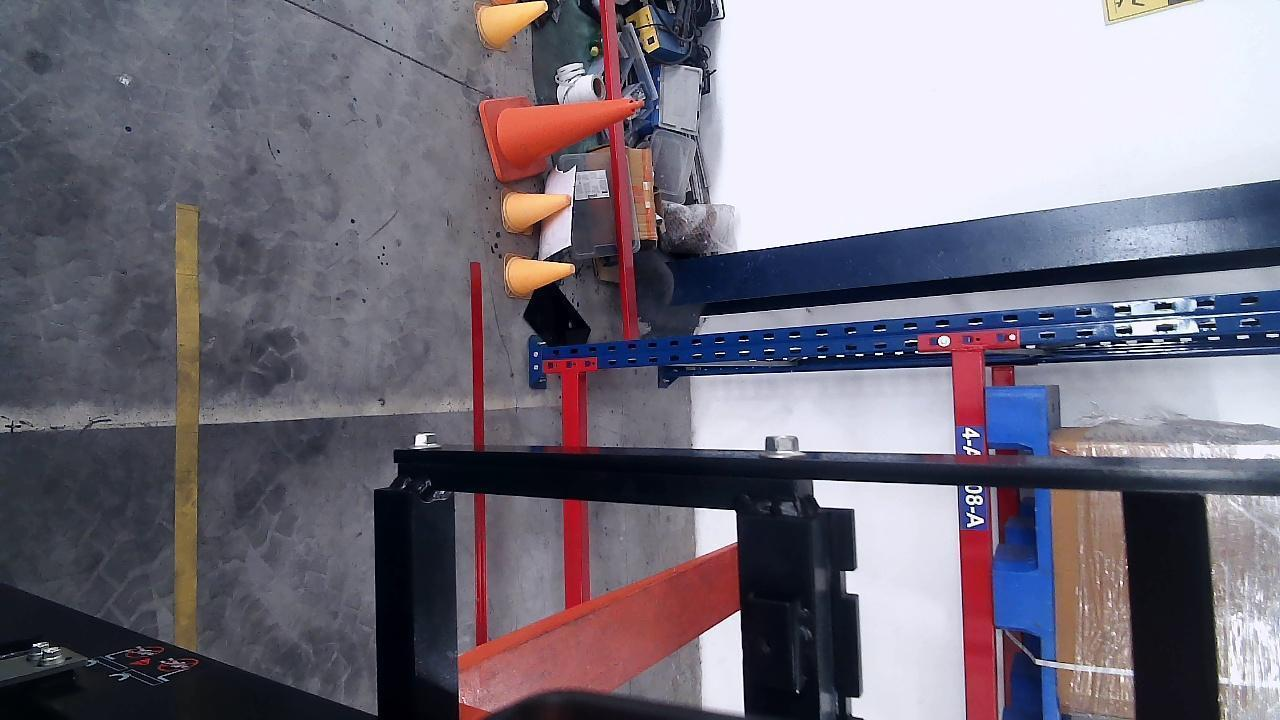red_line: (468, 262, 488, 644)
yellow_line: (175, 202, 200, 654)
